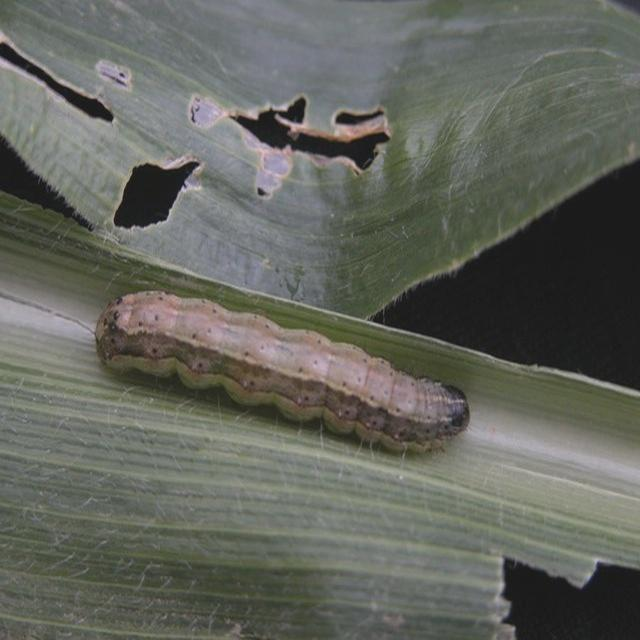gusano_cogollero: (91, 289, 472, 457)
